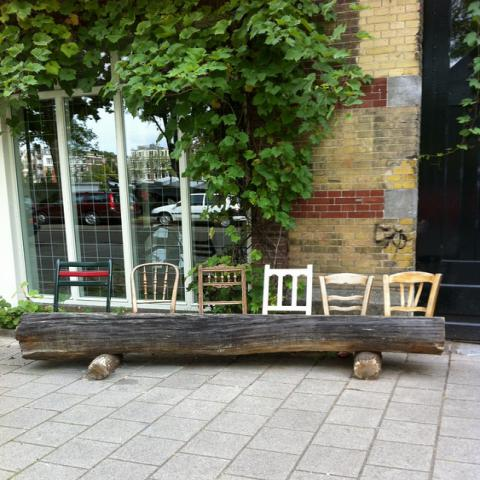car: (27, 194, 143, 226), (151, 192, 246, 226)
